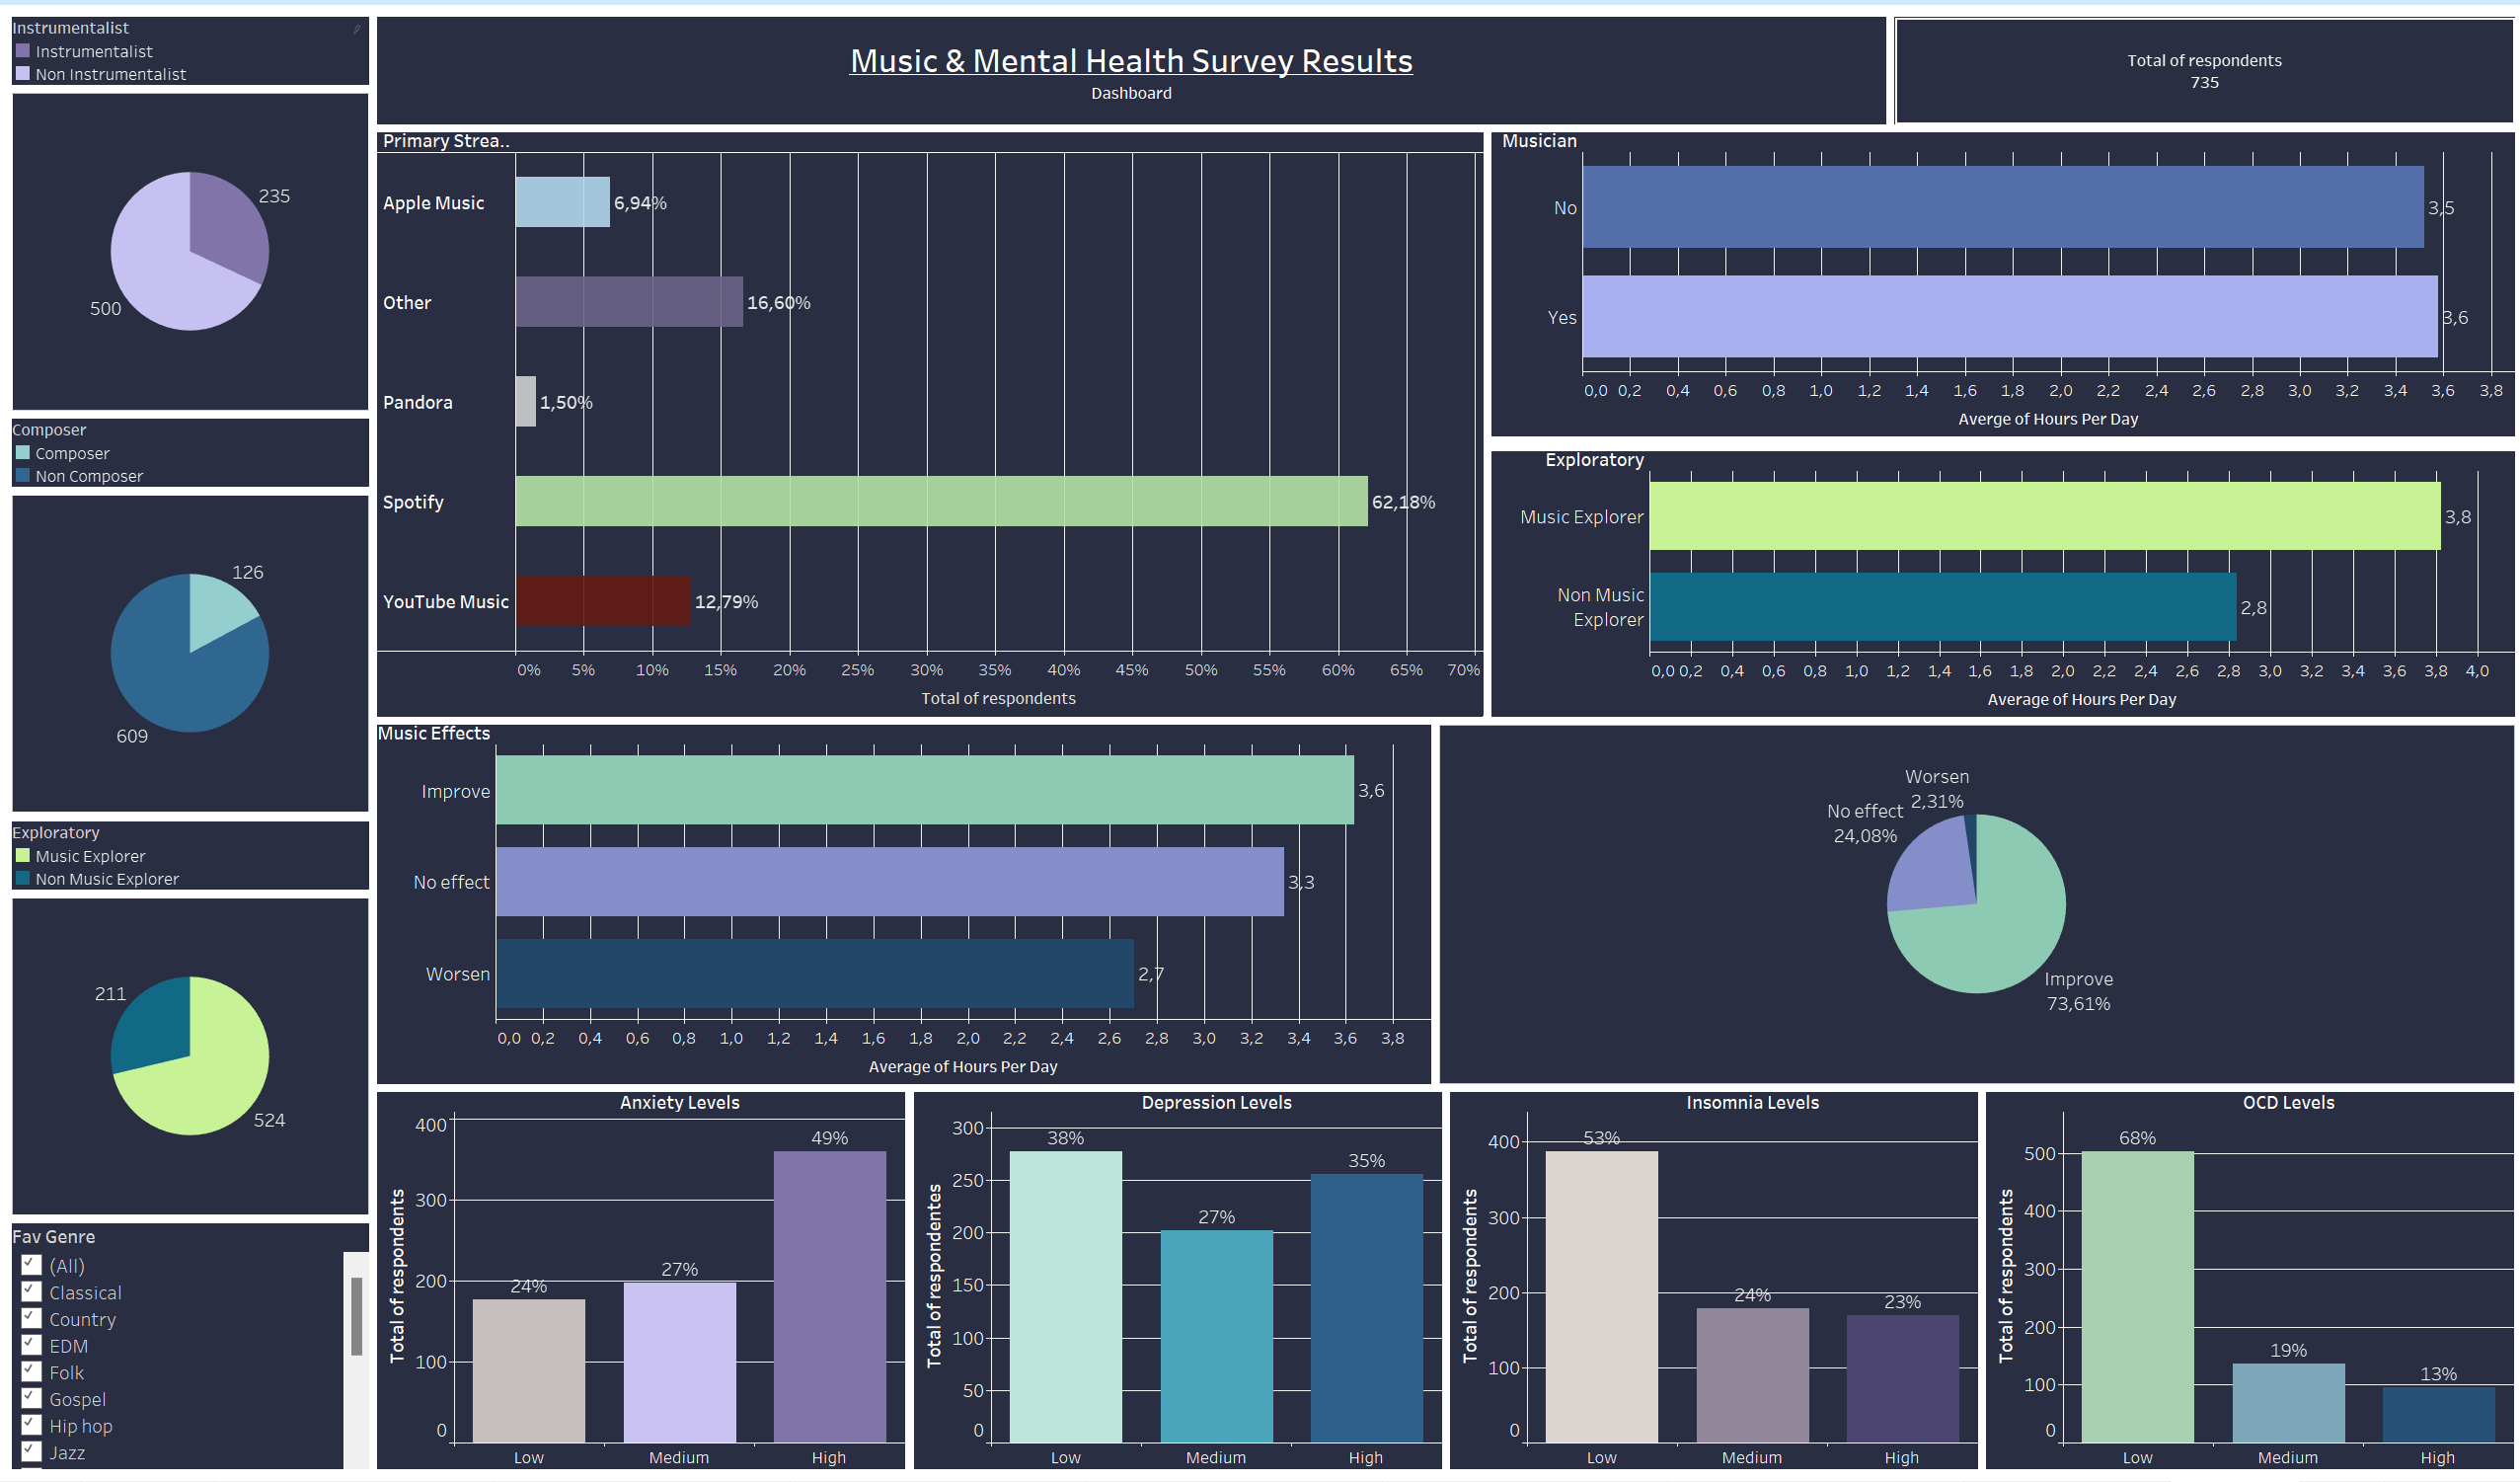

The page's visual inventory and layout, read from the dashboard file:
{"tool":"tableau","page":{"name":"Dashboard","canvas":[1000,1000],"units":"permille","ordinal":2},"visuals":[{"type":"legend","title":"Instrumentalist","param":"[federated.1800dk914a3c711dvt3q606z8y59].[none:instrumentalist:nk]","box":[5,10.1,144,96.9]},{"type":"text","box":[149.1,10.1,598.1,77.4]},{"type":"worksheet","title":"Total of respondents","mark":"Automatic","box":[747.2,10.1,247.8,77.4]},{"type":"worksheet","title":"Primary Streaming Services Count","mark":"Automatic","rows":["primary_streaming_service"],"box":[149.1,87.5,439.2,397.6]},{"type":"worksheet","title":"Hours per day per musicias VS non musicians","mark":"Automatic","rows":["Calculation_1613696056701267970"],"cols":["hours_per_day"],"box":[588.3,87.5,406.7,213.9]},{"type":"worksheet","title":"Instrumentalist","mark":"Pie","box":[5,106.9,144,122]},{"type":"legend","title":"Composer","param":"[federated.1800dk914a3c711dvt3q606z8y59].[none:composer:nk]","box":[5,228.9,144,96.9]},{"type":"worksheet","title":"Hours per day per Explorer VS non Explorer","mark":"Automatic","rows":["exploratory"],"cols":["hours_per_day"],"box":[588.3,301.4,406.7,183.7]},{"type":"worksheet","title":"Composer","mark":"Pie","box":[5,325.8,144,122]},{"type":"legend","title":"Music Explorer","param":"[federated.1800dk914a3c711dvt3q606z8y59].[none:exploratory:nk]","box":[5,447.8,144,96.9]},{"type":"worksheet","title":"Hours per day per Music Effect","mark":"Automatic","rows":["music_effects"],"cols":["hours_per_day"],"box":[149.1,485,673.4,246.5]},{"type":"worksheet","title":"Music Effects","mark":"Pie","box":[822.4,485,172.6,246.5]},{"type":"worksheet","title":"Music Explorer","mark":"Pie","box":[5,544.6,144,122]},{"type":"filter","title":"Primary Streaming Services Count","param":"[federated.1800dk914a3c711dvt3q606z8y59].[none:fav_genre:nk]","box":[5,666.7,144,323.3]},{"type":"worksheet","title":"Anxiety Levels","mark":"Automatic","rows":["survey_results_cleaned.csv_0B5A3C7DB4A449F3BD727FEC05E4933C"],"box":[149.1,731.5,211.5,258.4]},{"type":"worksheet","title":"Depression Levels","mark":"Automatic","rows":["survey_results_cleaned.csv_0B5A3C7DB4A449F3BD727FEC05E4933C"],"box":[360.5,731.5,211.5,258.4]},{"type":"worksheet","title":"Insomnia Levels","mark":"Automatic","rows":["survey_results_cleaned.csv_0B5A3C7DB4A449F3BD727FEC05E4933C"],"box":[572,731.5,211.5,258.4]},{"type":"worksheet","title":"OCD Levels","mark":"Automatic","rows":["survey_results_cleaned.csv_0B5A3C7DB4A449F3BD727FEC05E4933C"],"box":[783.5,731.5,211.5,258.4]}]}

Visuals, with their boxes on the dashboard's canvas, which has no fixed pixel size, in thousandths of its width and height (x1, y1, x2, y2). These are canvas units, not pixel positions in the 2520x1482 screenshot, which may show the page scaled, cropped or inside an application window:
"Instrumentalist" legend: box(5, 10, 149, 107)
text: box(149, 10, 747, 88)
"Total of respondents" worksheet: box(747, 10, 995, 88)
"Primary Streaming Services Count" worksheet: box(149, 88, 588, 485)
"Hours per day per musicias VS non musicians" worksheet: box(588, 88, 995, 301)
"Instrumentalist" worksheet (Pie marks): box(5, 107, 149, 229)
"Composer" legend: box(5, 229, 149, 326)
"Hours per day per Explorer VS non Explorer" worksheet: box(588, 301, 995, 485)
"Composer" worksheet (Pie marks): box(5, 326, 149, 448)
"Music Explorer" legend: box(5, 448, 149, 545)
"Hours per day per Music Effect" worksheet: box(149, 485, 822, 732)
"Music Effects" worksheet (Pie marks): box(822, 485, 995, 732)
"Music Explorer" worksheet (Pie marks): box(5, 545, 149, 667)
"Primary Streaming Services Count" filter: box(5, 667, 149, 990)
"Anxiety Levels" worksheet: box(149, 732, 361, 990)
"Depression Levels" worksheet: box(360, 732, 572, 990)
"Insomnia Levels" worksheet: box(572, 732, 784, 990)
"OCD Levels" worksheet: box(784, 732, 995, 990)
